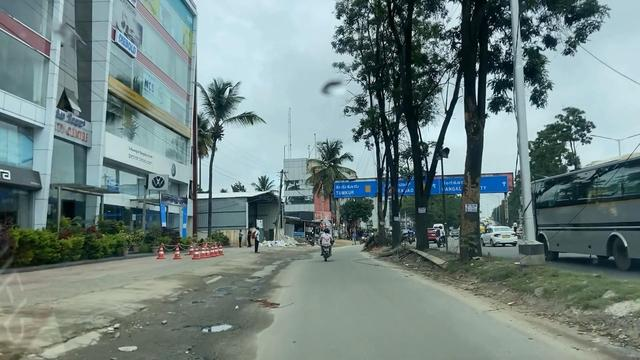RoadDamages: (157, 279, 281, 311), (164, 314, 240, 360), (247, 258, 283, 281)
